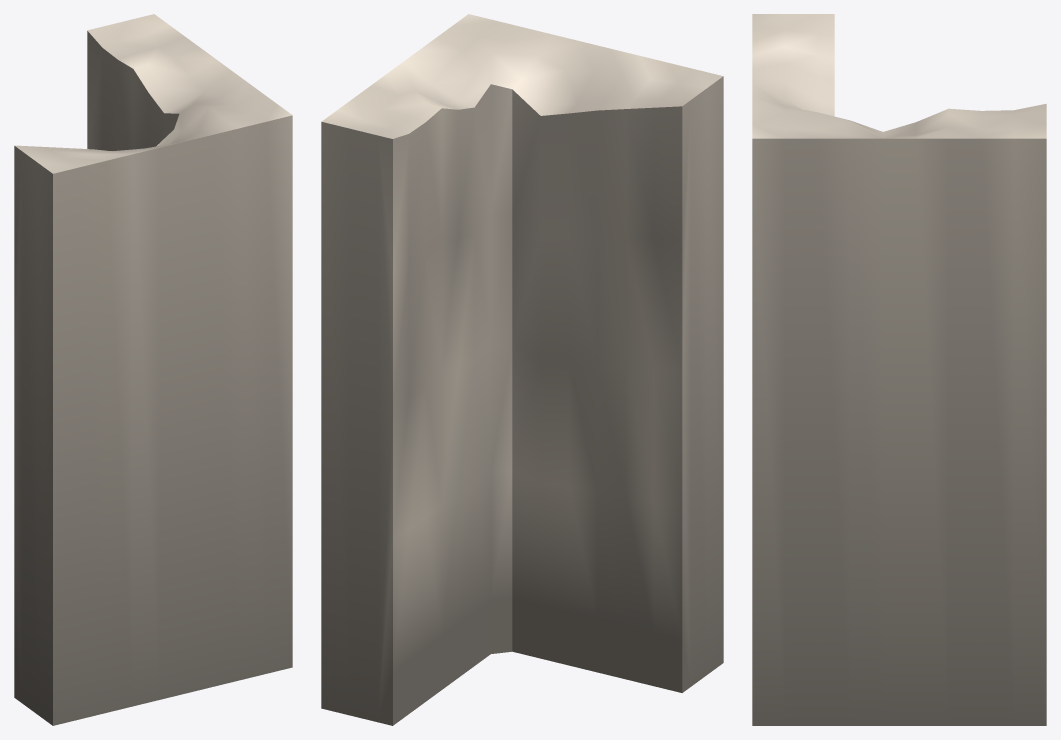
Rendered from SM_VKI_Rock_Cave_FFFO_WallN.fbx.
The picture shows the model from 3 angles, left to right: view 1: azimuth 30°, elevation 25°; view 2: azimuth 150°, elevation 25°; view 3: azimuth 270°, elevation 25°; orthographic projection. The views are drawn at different scales.
Parts seen in each view (by area): view 1: SM_VKI_Rock_Cave_FFFO_WallN.001; view 2: SM_VKI_Rock_Cave_FFFO_WallN.001; view 3: SM_VKI_Rock_Cave_FFFO_WallN.001.
Boxes of the visible parts, <box> form: SM_VKI_Rock_Cave_FFFO_WallN.001: <box>14,14,292,725</box>; SM_VKI_Rock_Cave_FFFO_WallN.001: <box>321,14,723,725</box>; SM_VKI_Rock_Cave_FFFO_WallN.001: <box>752,14,1046,725</box>.
Bounding box in the file's own units: 1.5 × 3.3 × 1.5.
